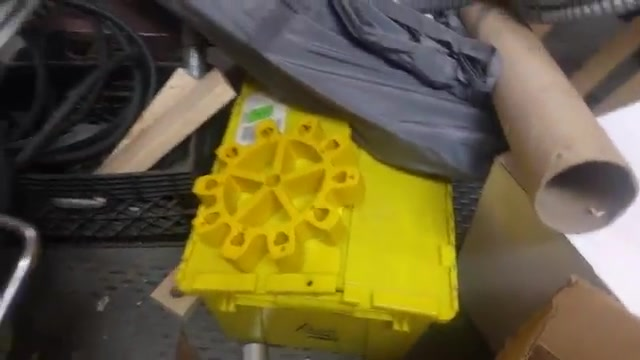gear: (191, 108, 375, 272)
